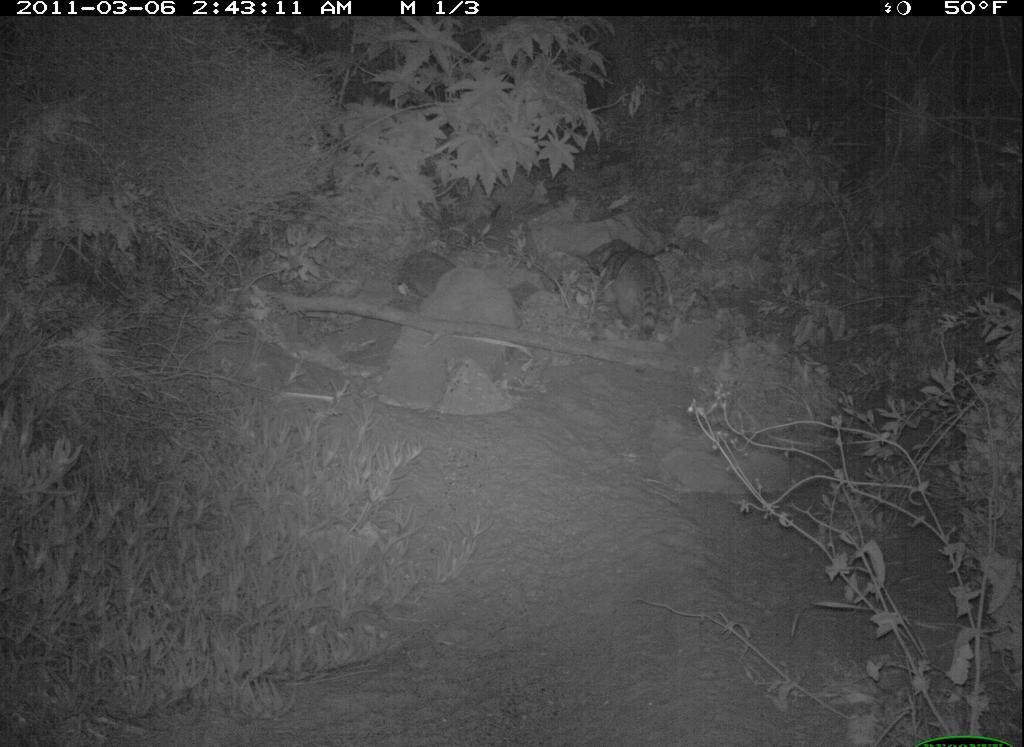raccoon: (594, 244, 671, 346)
